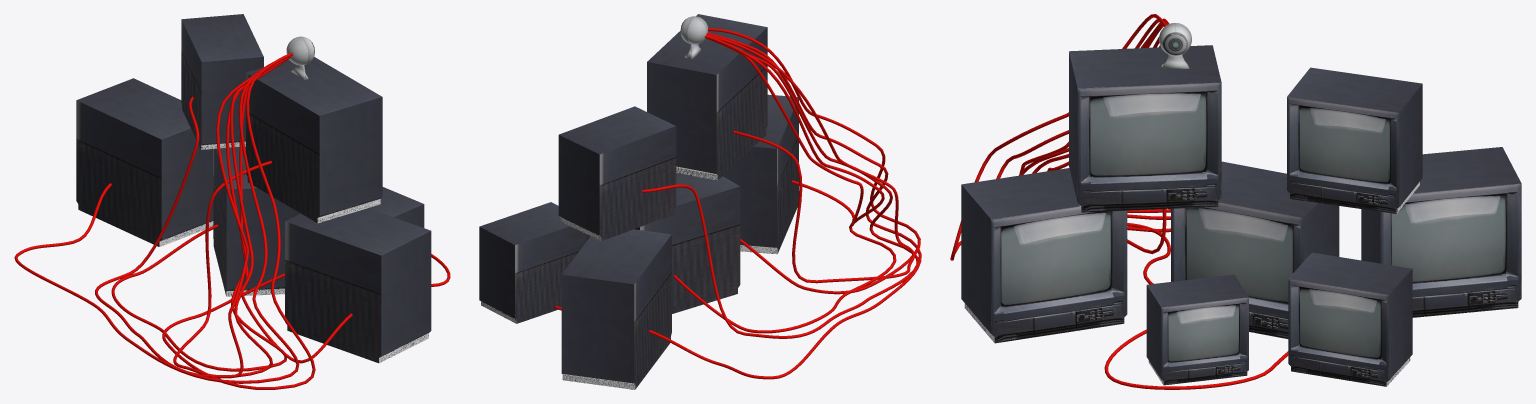
File: TVS.glb
3 renders of one model, left to right at view 1: azimuth 30°, elevation 25°; view 2: azimuth 150°, elevation 25°; view 3: azimuth 270°, elevation 25°, orthographic. The views are drawn at different scales.
Parts seen in each view (by area): view 1: Cube, Cube.005, Cube.002, BezierCurve, Cube.006, Cube.001, Cube.003, Sphere; view 2: Cube.002, Cube.005, Cube.006, BezierCurve, Cube.004, Cube.001, Cube, Sphere; view 3: Cube, Cube.005, Cube.002, Cube.006, Cube.001, Cube.004, Cube.003, BezierCurve, Sphere.
Boxes of the visible parts, x1=… form: Cube: x1=285, y1=208, x2=431, y2=363; Cube.005: x1=246, y1=57, x2=382, y2=223; Cube.002: x1=76, y1=78, x2=213, y2=246; BezierCurve: x1=14, y1=52, x2=450, y2=389; Cube.006: x1=181, y1=14, x2=263, y2=149; Cube.001: x1=213, y1=146, x2=300, y2=296; Cube.003: x1=368, y1=187, x2=424, y2=227; Sphere: x1=286, y1=36, x2=314, y2=79; Cube.002: x1=561, y1=229, x2=671, y2=389; Cube.005: x1=647, y1=14, x2=767, y2=180; Cube.006: x1=558, y1=106, x2=676, y2=241; BezierCurve: x1=554, y1=28, x2=921, y2=379; Cube.004: x1=479, y1=202, x2=586, y2=323; Cube.001: x1=634, y1=173, x2=740, y2=313; Cube: x1=723, y1=94, x2=798, y2=254; Sphere: x1=680, y1=16, x2=708, y2=59; Cube: x1=961, y1=168, x2=1127, y2=343; Cube.005: x1=1069, y1=45, x2=1221, y2=212; Cube.002: x1=1361, y1=147, x2=1521, y2=317; Cube.006: x1=1287, y1=67, x2=1422, y2=213; Cube.001: x1=1171, y1=161, x2=1339, y2=338; Cube.004: x1=1288, y1=252, x2=1412, y2=386; Cube.003: x1=1146, y1=274, x2=1248, y2=385; BezierCurve: x1=950, y1=14, x2=1288, y2=389; Sphere: x1=1159, y1=23, x2=1191, y2=68.
Bounding box in the file's own units: 9.7 × 7.37 × 12.88.
Materials: 3 (2 with a texture image).
